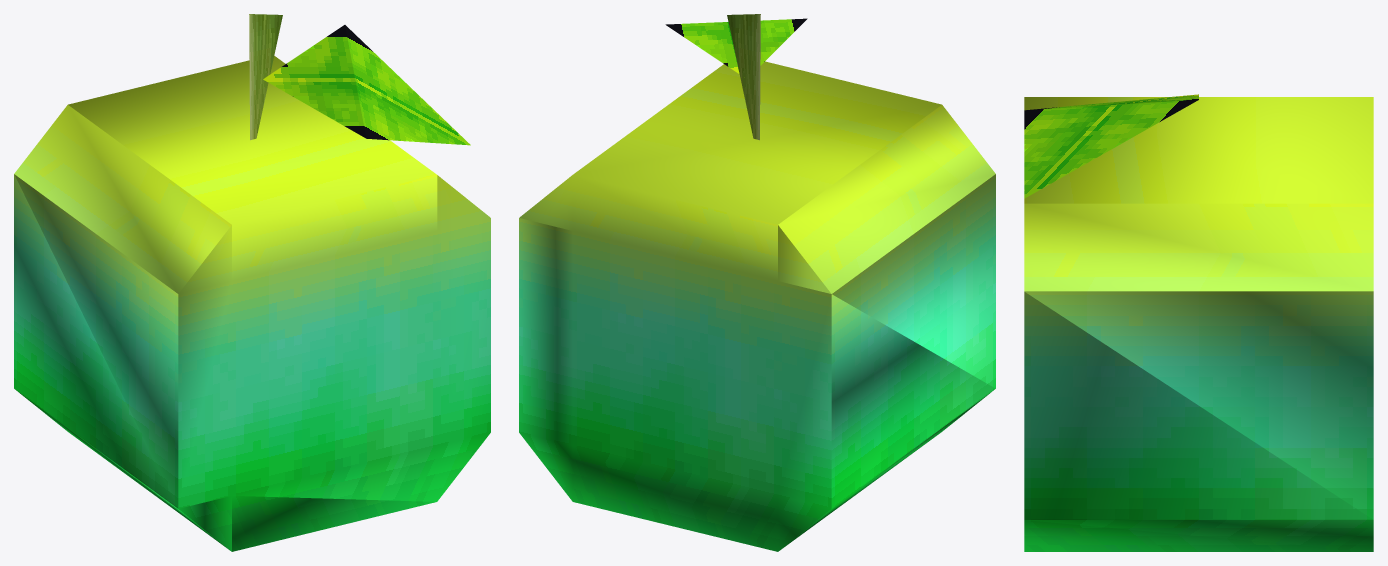
File: apple_3dba2b6e.glb
3 renders of one model, left to right at view 1: azimuth 30°, elevation 25°; view 2: azimuth 150°, elevation 25°; view 3: azimuth 270°, elevation 25°, orthographic. The views are drawn at different scales.
Visible parts, largest first — view 1: Object_4, Object_2, Object_3; view 2: Object_4, Object_2, Object_3; view 3: Object_4, Object_2.
Boxes of the visible parts, x1=… form: Object_4: x1=14, y1=56, x2=490, y2=551; Object_2: x1=263, y1=25, x2=470, y2=145; Object_3: x1=249, y1=14, x2=282, y2=140; Object_4: x1=519, y1=61, x2=995, y2=551; Object_2: x1=665, y1=18, x2=807, y2=73; Object_3: x1=727, y1=14, x2=760, y2=140; Object_4: x1=1024, y1=97, x2=1373, y2=551; Object_2: x1=1024, y1=94, x2=1198, y2=198.
Bounding box in the file's own units: 2.18 × 3.02 × 1.98.
Materials: 3 (3 with a texture image).
